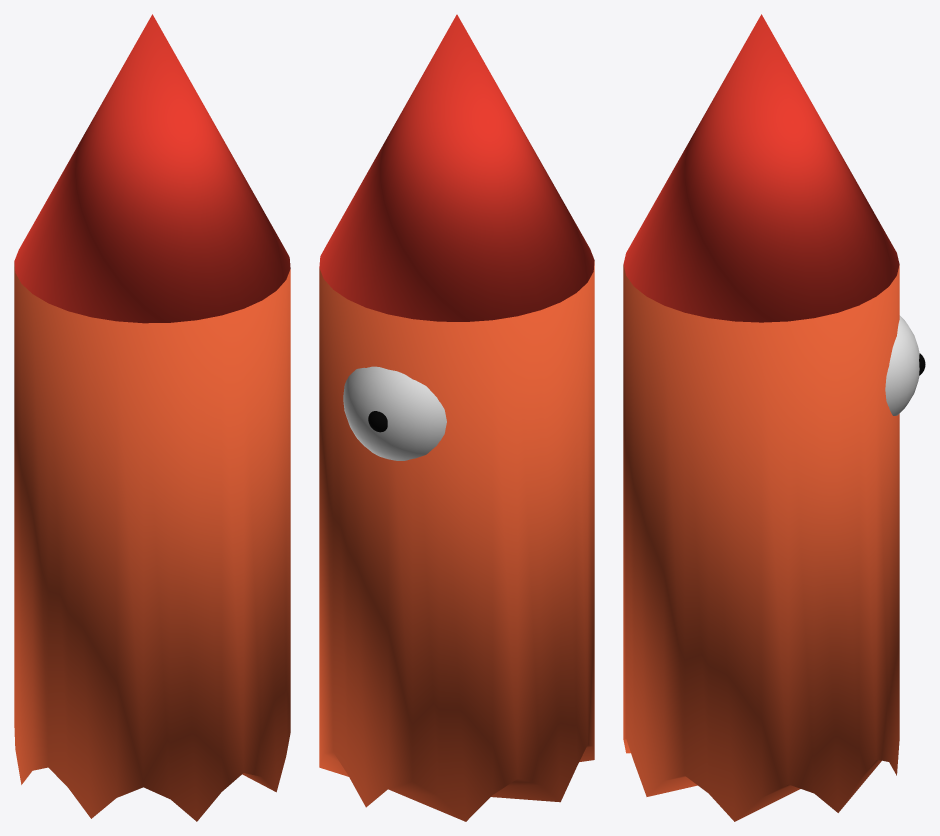
File: chaser.fbx
3 views of the same model, side by side, from view 1: azimuth 30°, elevation 25°; view 2: azimuth 150°, elevation 25°; view 3: azimuth 270°, elevation 25° (orthographic).
Parts seen in each view (by area): view 1: Cylinder, Cone; view 2: Cylinder, Cone, Sphere; view 3: Cylinder, Cone, Sphere.
Part boxes in pixels (x1,y1,x2,y2): Cylinder: [14, 262, 290, 821]; Cone: [14, 14, 290, 323]; Cylinder: [319, 261, 594, 821]; Cone: [319, 14, 594, 321]; Sphere: [343, 366, 446, 460]; Cylinder: [623, 264, 899, 821]; Cone: [623, 14, 899, 322]; Sphere: [885, 315, 919, 415].
Size of the model in its own units: 100 by 300 by 109.
